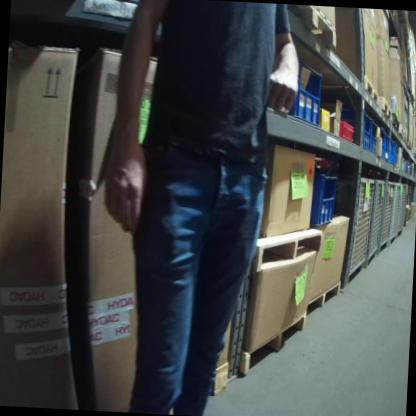pallet: (237, 307, 306, 383), (253, 222, 322, 277), (279, 4, 339, 50), (303, 276, 343, 321), (361, 76, 384, 107), (379, 94, 393, 122)
small_load_carrier: (284, 56, 328, 127), (312, 169, 343, 229), (333, 106, 373, 151), (337, 119, 356, 144), (370, 119, 379, 156), (381, 131, 392, 160), (389, 139, 400, 165)
stillage: (328, 169, 372, 292), (366, 176, 383, 269), (380, 179, 394, 260), (390, 180, 400, 246), (399, 179, 409, 239)
